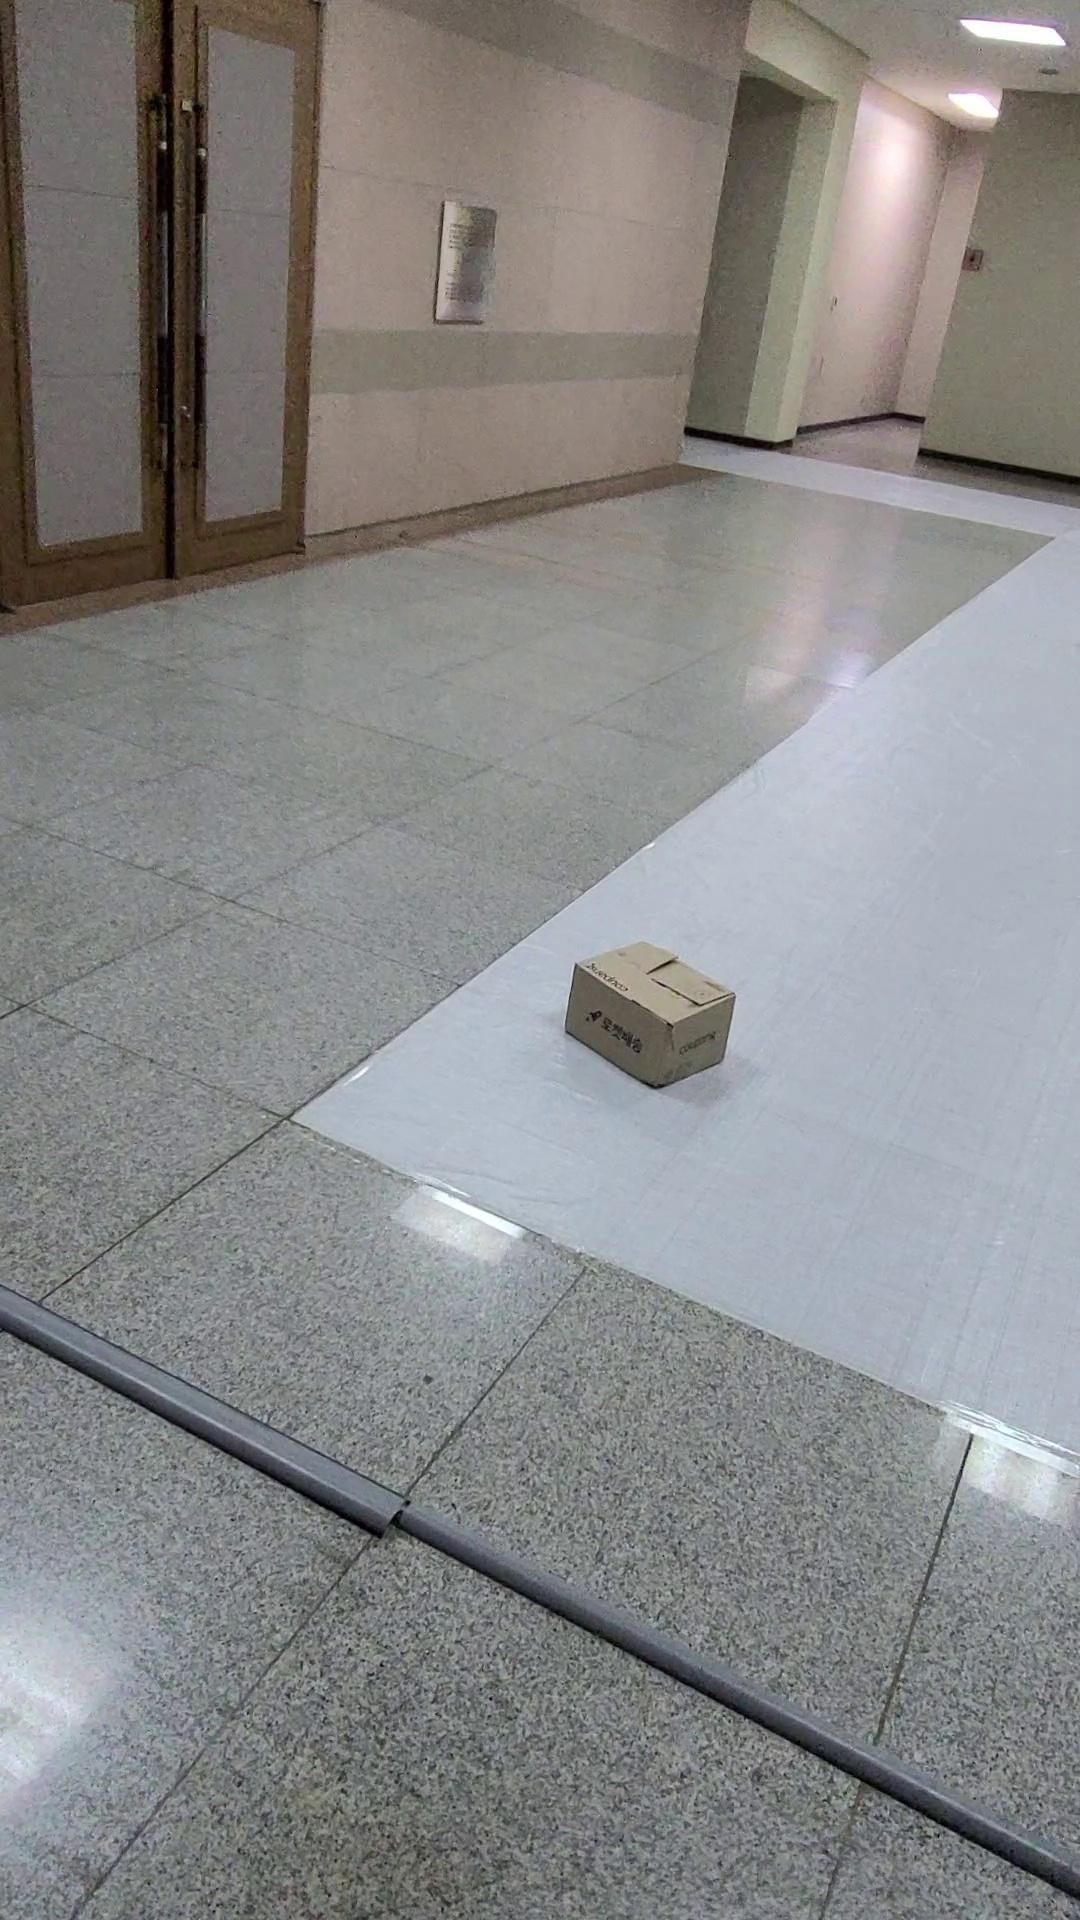Box: (506, 913, 756, 1125)
